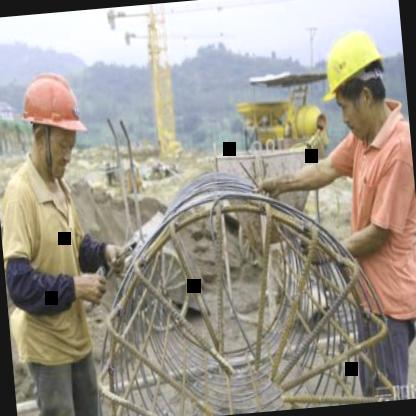helmet: (312, 10, 398, 146), (14, 64, 91, 182)
